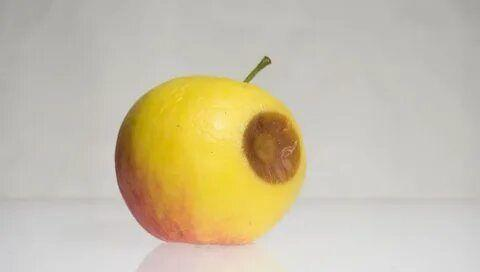Apple: (116, 80, 304, 244)
